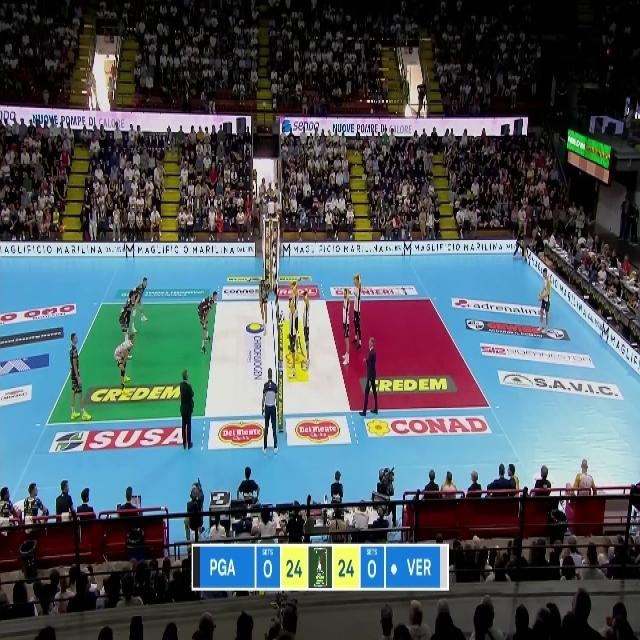volleyball court: (49, 296, 491, 420)
